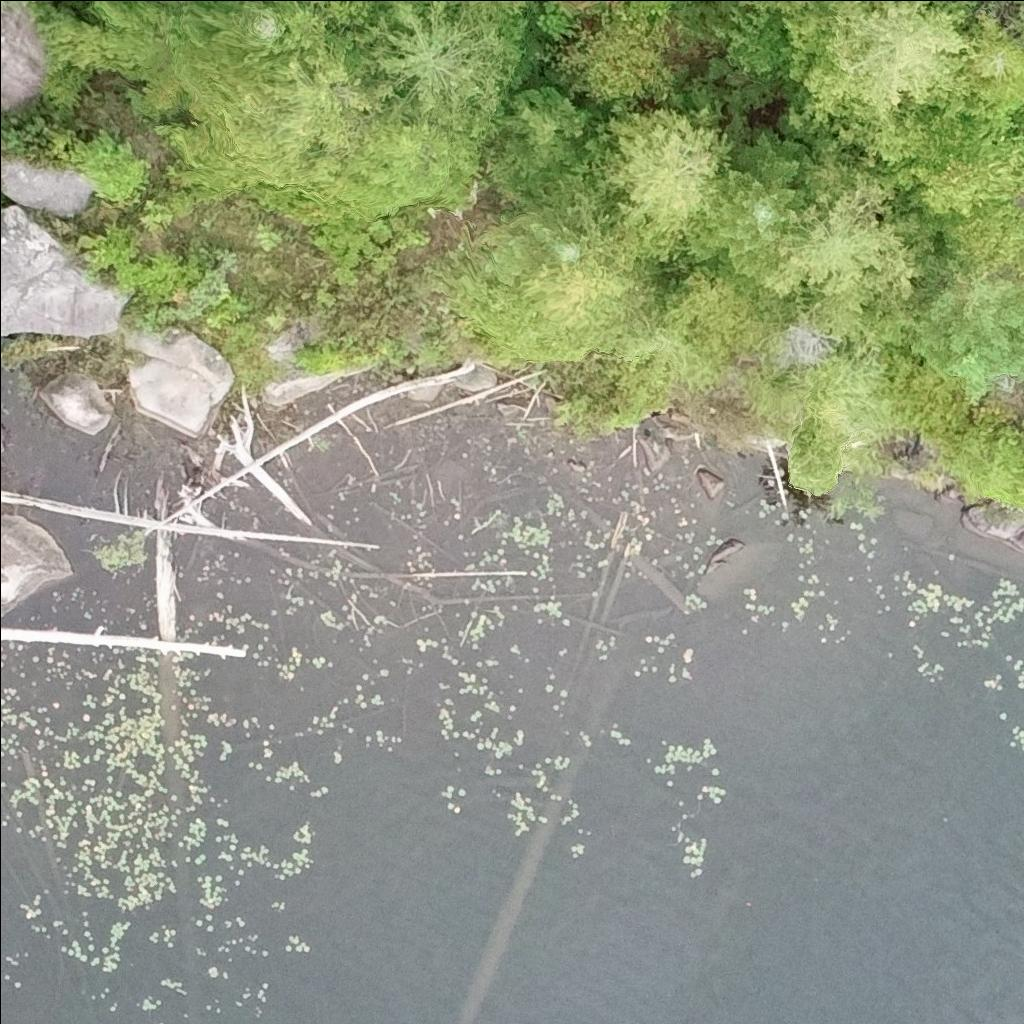crown: (446, 174, 686, 364), (787, 0, 972, 162), (760, 165, 932, 337), (677, 113, 806, 283), (364, 0, 502, 119), (912, 260, 1023, 402), (605, 110, 726, 232), (563, 4, 675, 107), (911, 149, 1023, 227), (954, 13, 1023, 117), (939, 198, 1023, 267), (795, 0, 931, 20), (448, 0, 522, 24), (616, 0, 672, 20), (748, 0, 802, 14), (1015, 17, 1023, 26)
